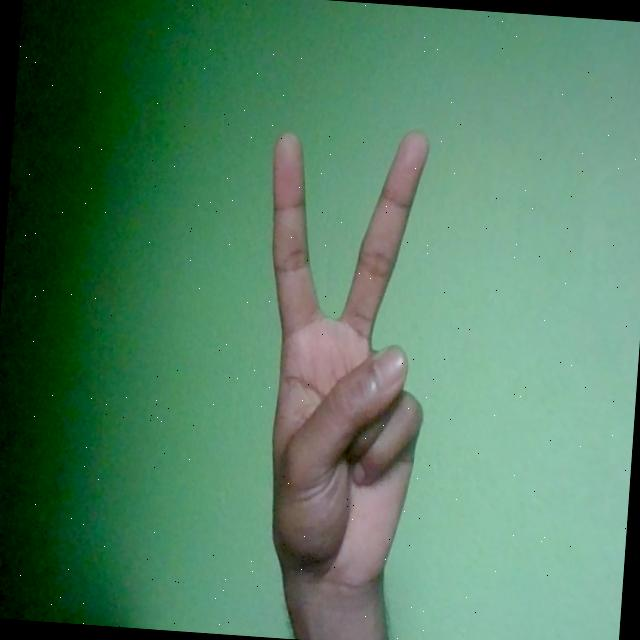Fist: (244, 116, 444, 603)
